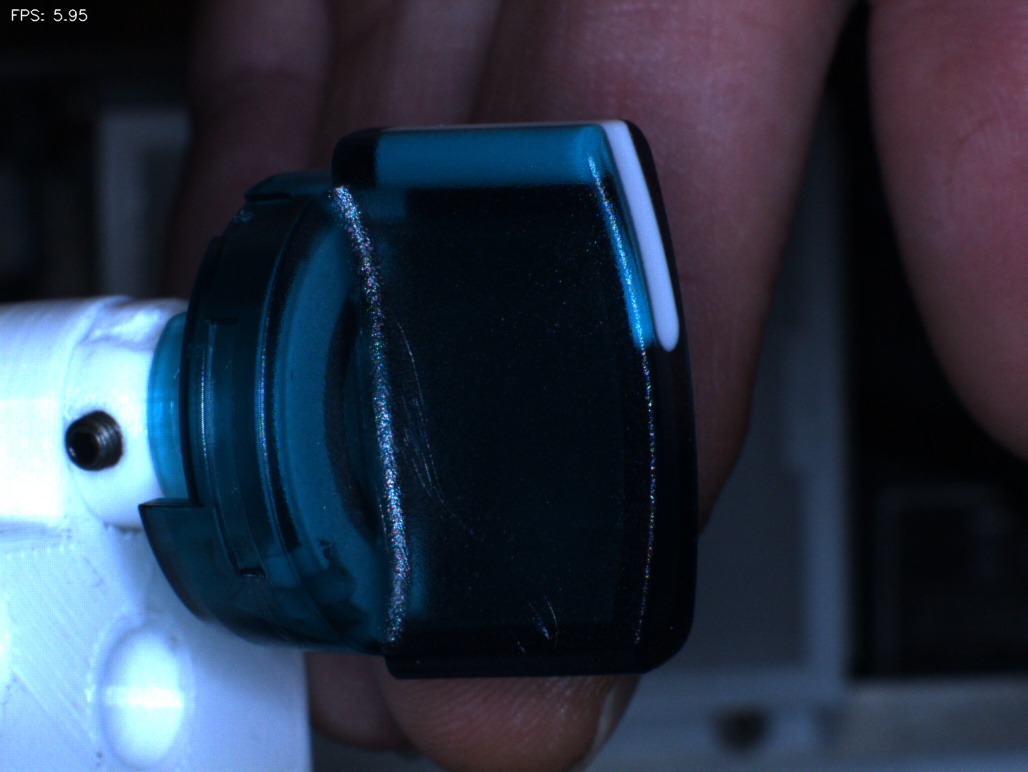Givrage: (384, 317, 465, 510), (498, 590, 579, 667)
